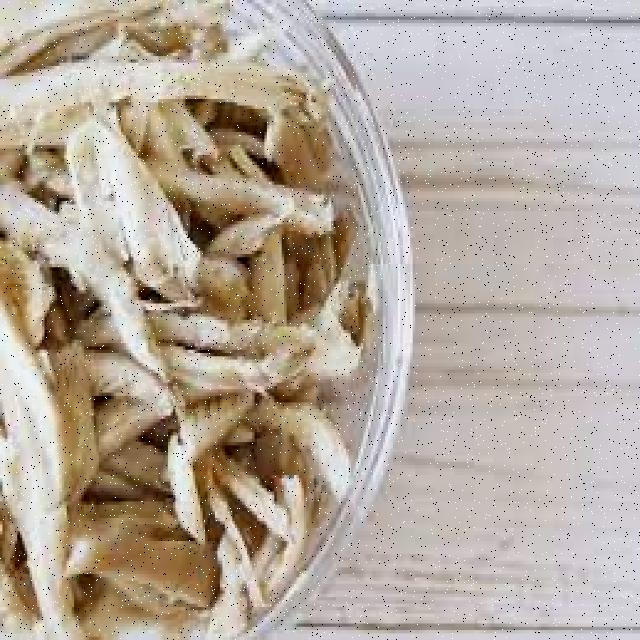Mushroom: (7, 49, 303, 552)
